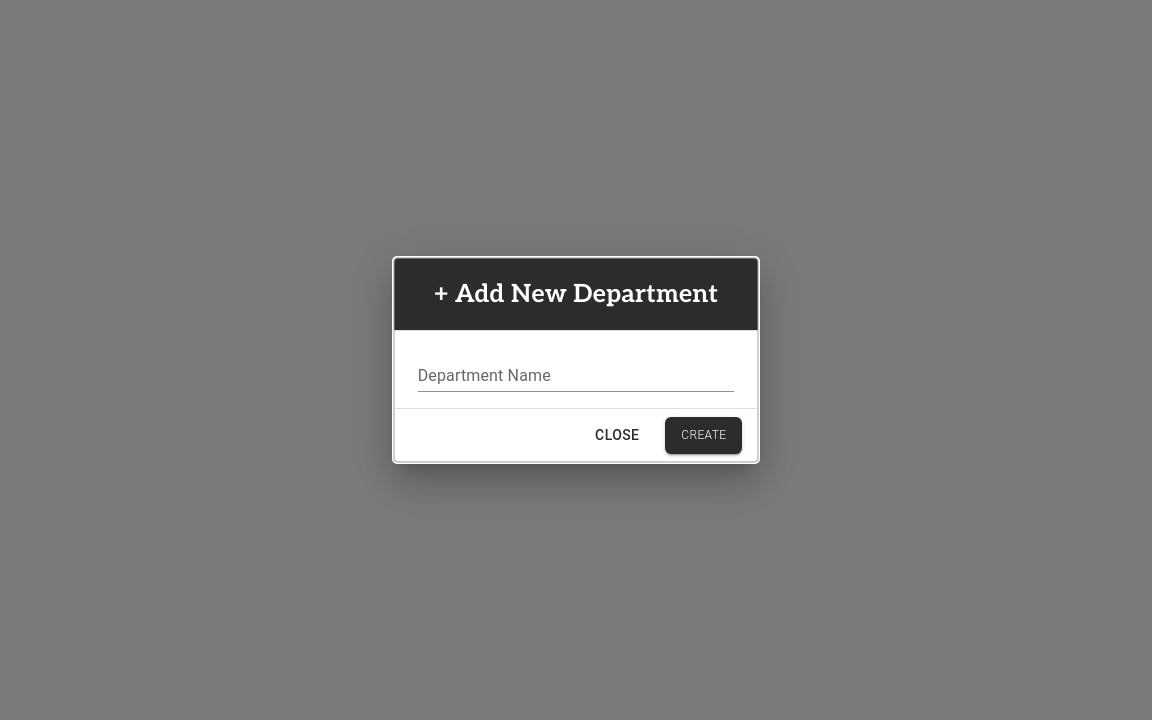
Test: Super-admin AddDepartmentDialog › clicking Create with empty name shows error snackbar and does not call API
Click the button "Create": (704, 436) [665,417,742,454]
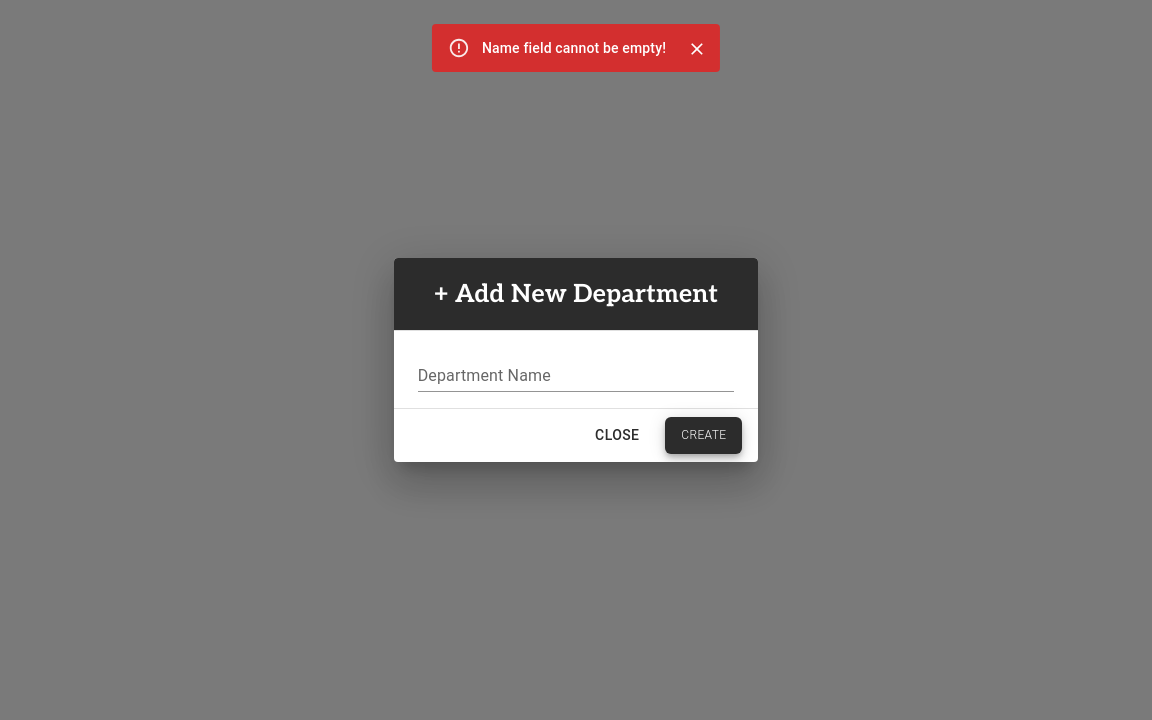
Check: the text "Name field cannot be empty!" is shown, box [482,40,666,56]
